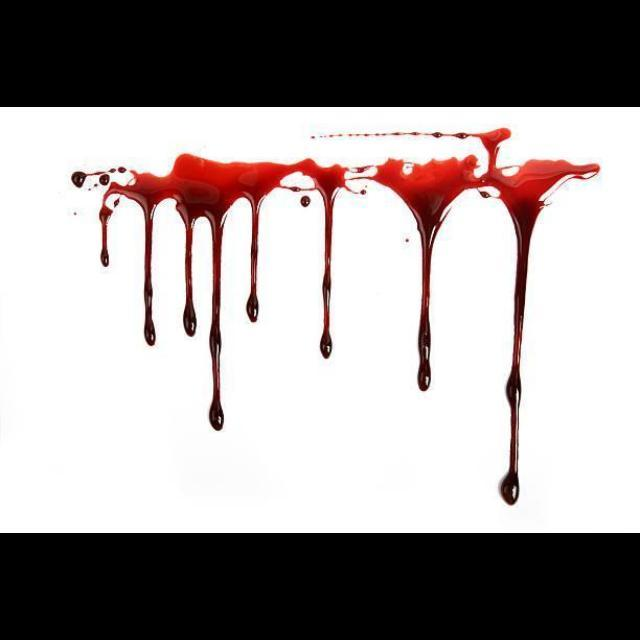blood: (70, 129, 601, 509)
